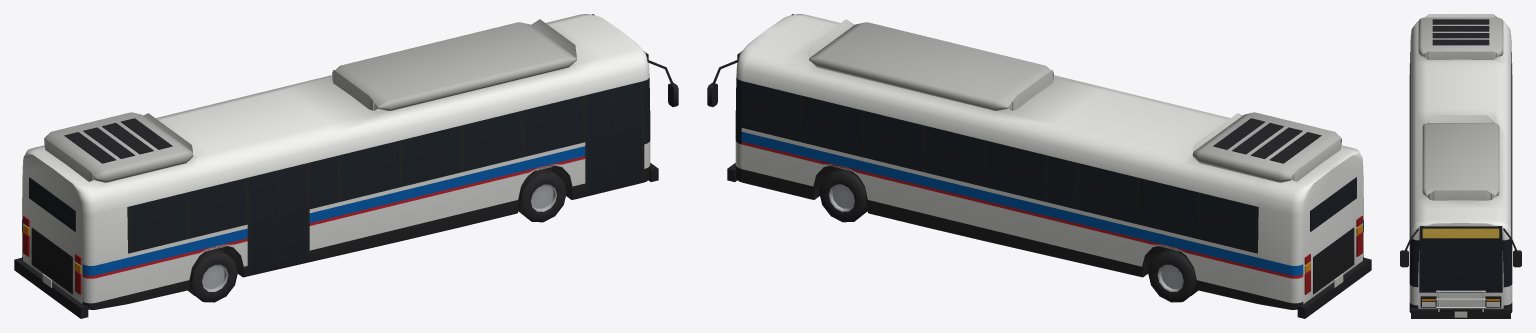
Rendered from bus.glb.
The picture shows the model from 3 angles, left to right: view 1: azimuth 30°, elevation 25°; view 2: azimuth 150°, elevation 25°; view 3: azimuth 270°, elevation 25°; orthographic projection. The views are drawn at different scales.
Visible parts, largest first — view 1: lod0; view 2: lod0; view 3: lod0.
Boxes of the visible parts, x1,y1,x2,y2 form: lod0: (14,14,678,318); lod0: (707,14,1371,318); lod0: (1400,14,1521,318).
Size of what is drawn, in the model's own units: 12.57 by 3.15 by 3.02.
